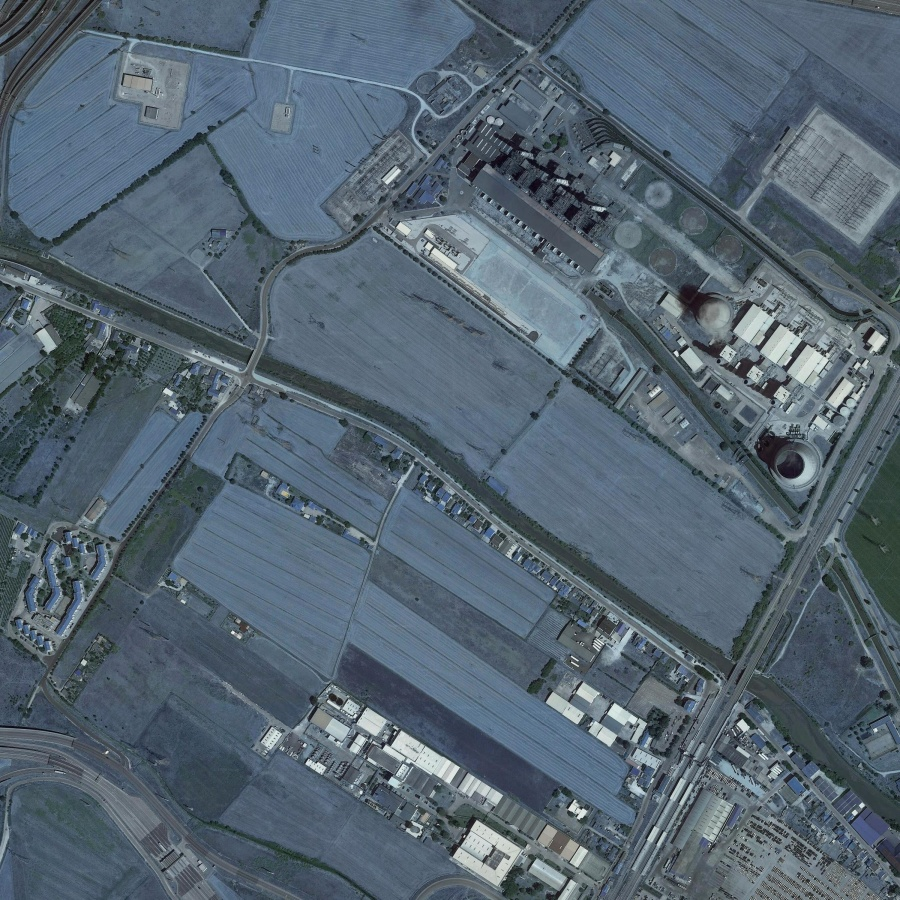PowerPlant: (430, 99, 884, 506)
